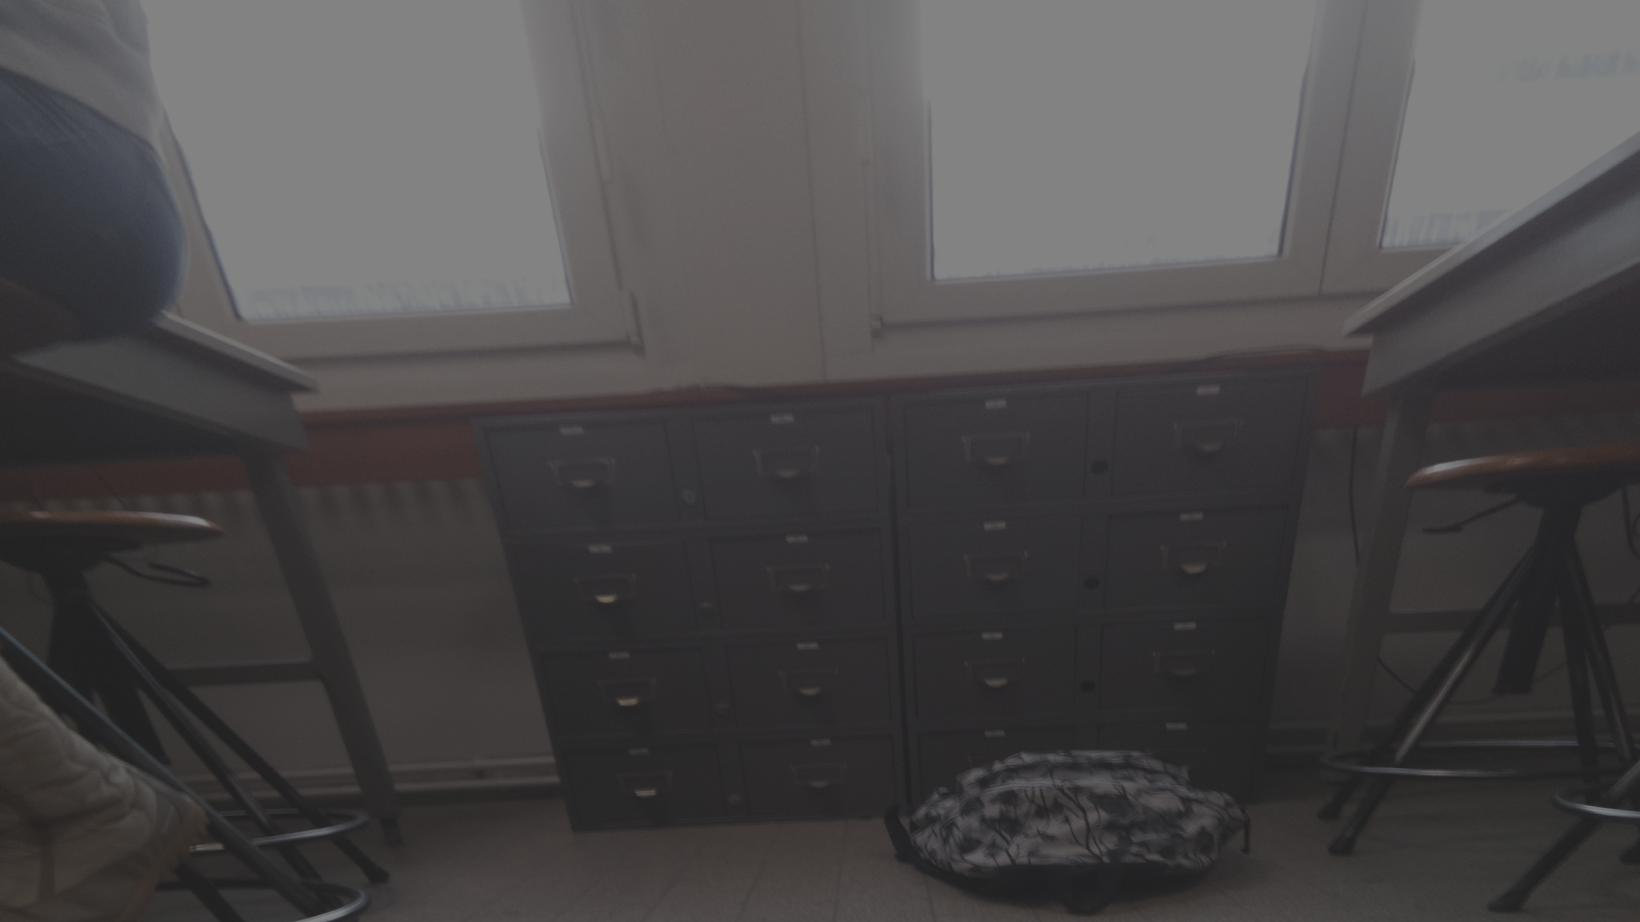big: (899, 745, 1254, 896)
